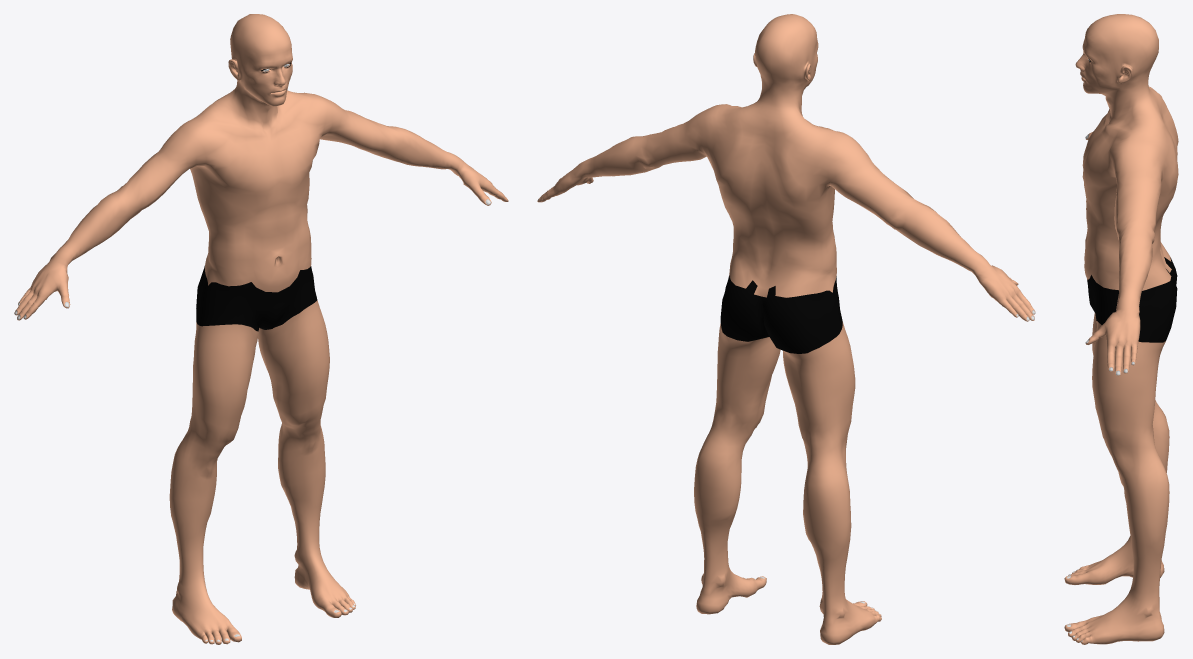
File: proto.fbx
The picture shows the model from 3 angles, left to right: view 1: azimuth 30°, elevation 25°; view 2: azimuth 150°, elevation 25°; view 3: azimuth 270°, elevation 25°; orthographic projection.
Visible parts, largest first — view 1: mb_male; view 2: mb_male; view 3: mb_male.
Boxes of the visible parts, x1=… form: mb_male: x1=14, y1=14, x2=508, y2=644; mb_male: x1=537, y1=14, x2=1035, y2=644; mb_male: x1=1064, y1=14, x2=1178, y2=644.
Bounding box in the file's own units: 159 × 183 × 32.05.
